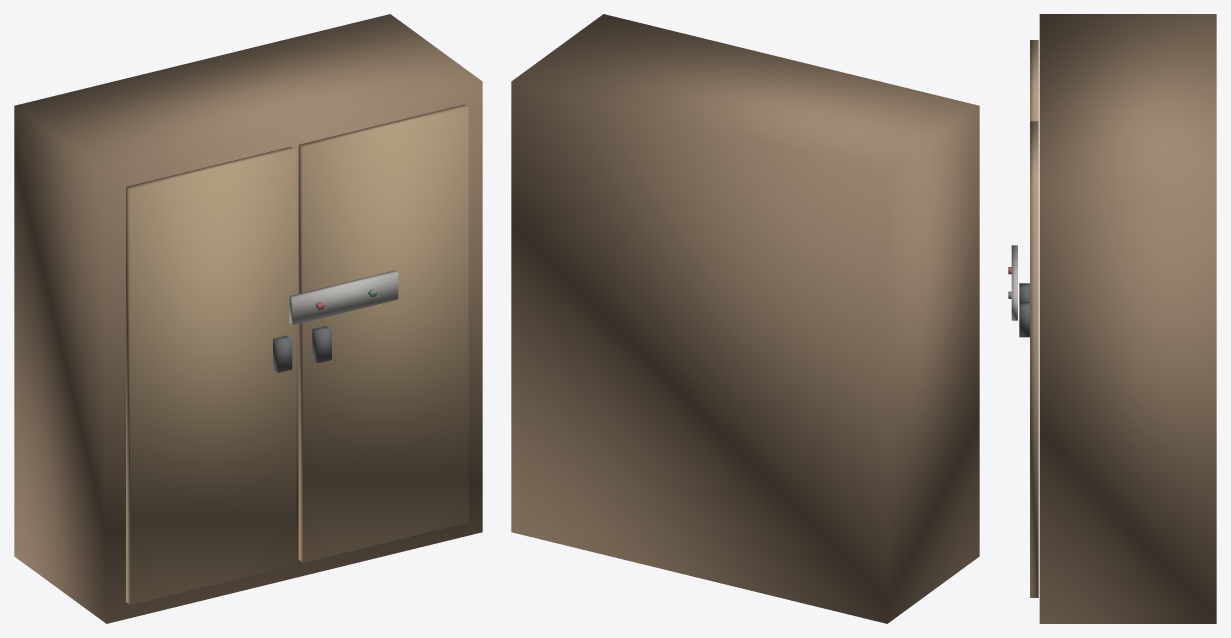
The model's file is cupboard__wide.glb.
The picture shows the model from 3 angles, left to right: view 1: azimuth 30°, elevation 25°; view 2: azimuth 150°, elevation 25°; view 3: azimuth 270°, elevation 25°; orthographic projection. The views are drawn at different scales.
Visible parts, largest first — view 1: world; view 2: world; view 3: world.
Part boxes in pixels (x1=…): world: x1=14, y1=14, x2=482, y2=623; world: x1=511, y1=14, x2=979, y2=623; world: x1=1008, y1=14, x2=1216, y2=623.
Bounding box in the file's own units: 1.18 × 1.35 × 0.5885.
